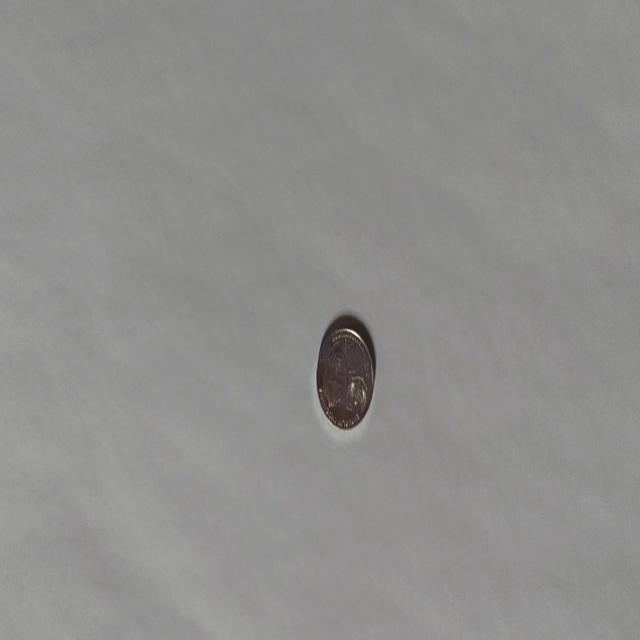dua ratus rupiah: (315, 324, 375, 432)
